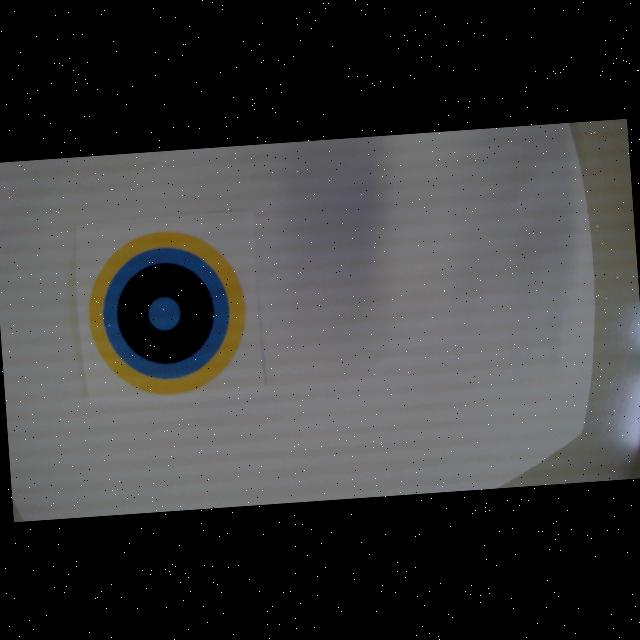COGNITIVE: (82, 224, 252, 400)
